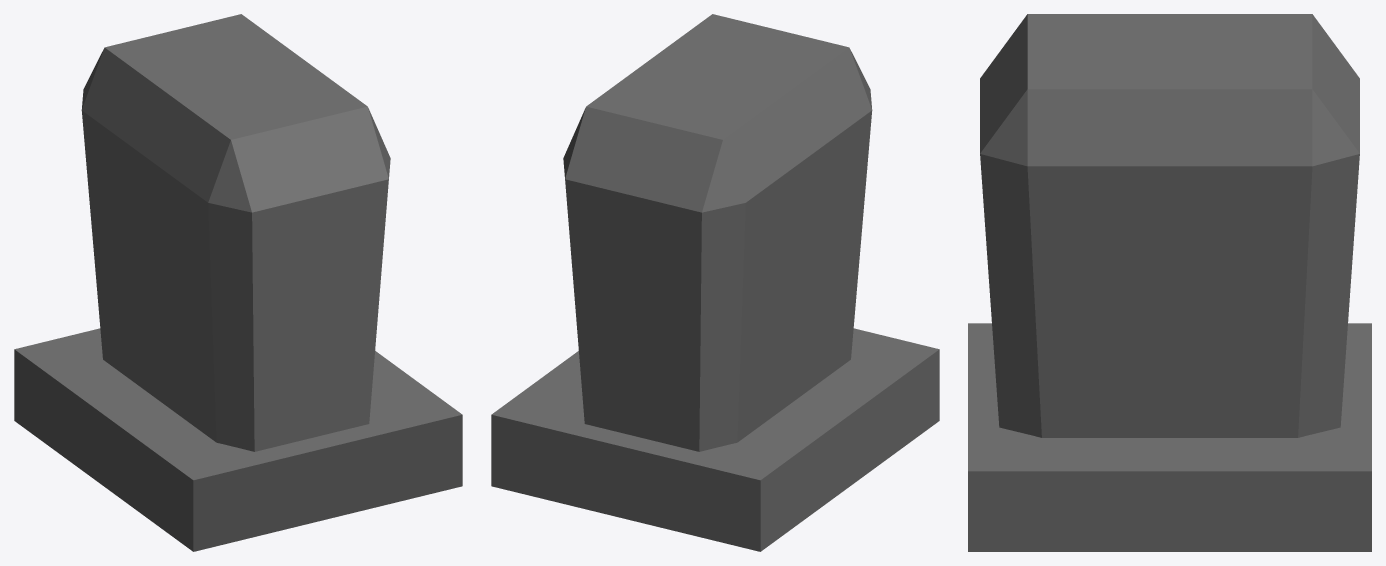
The model's file is Tombstone 1.obj.
3 renders of one model, left to right at view 1: azimuth 30°, elevation 25°; view 2: azimuth 150°, elevation 25°; view 3: azimuth 270°, elevation 25°, orthographic. The views are drawn at different scales.
Visible parts, largest first — view 1: beveled_cuboid, cuboid; view 2: beveled_cuboid, cuboid; view 3: beveled_cuboid, cuboid.
Boxes of the visible parts, x1,y1,x2,y2 form: beveled_cuboid: (81,14,390,451); cuboid: (14,328,462,551); beveled_cuboid: (563,14,872,451); cuboid: (491,328,939,551); beveled_cuboid: (980,14,1359,437); cuboid: (968,323,1371,551).
Size of the model in its own units: 0.9219 by 1.23 by 1.06.
1 material, 1 textured.
